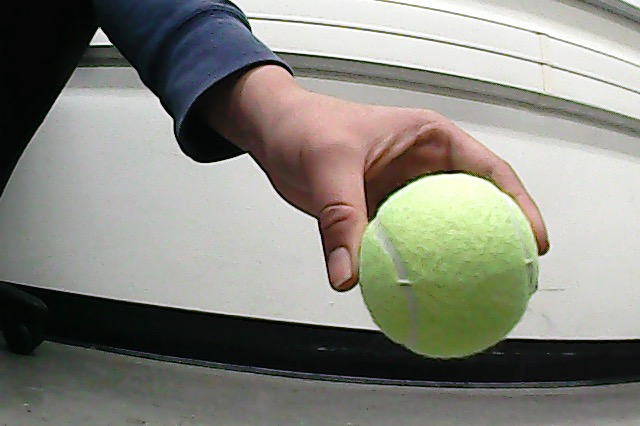ball: (353, 174, 544, 361)
